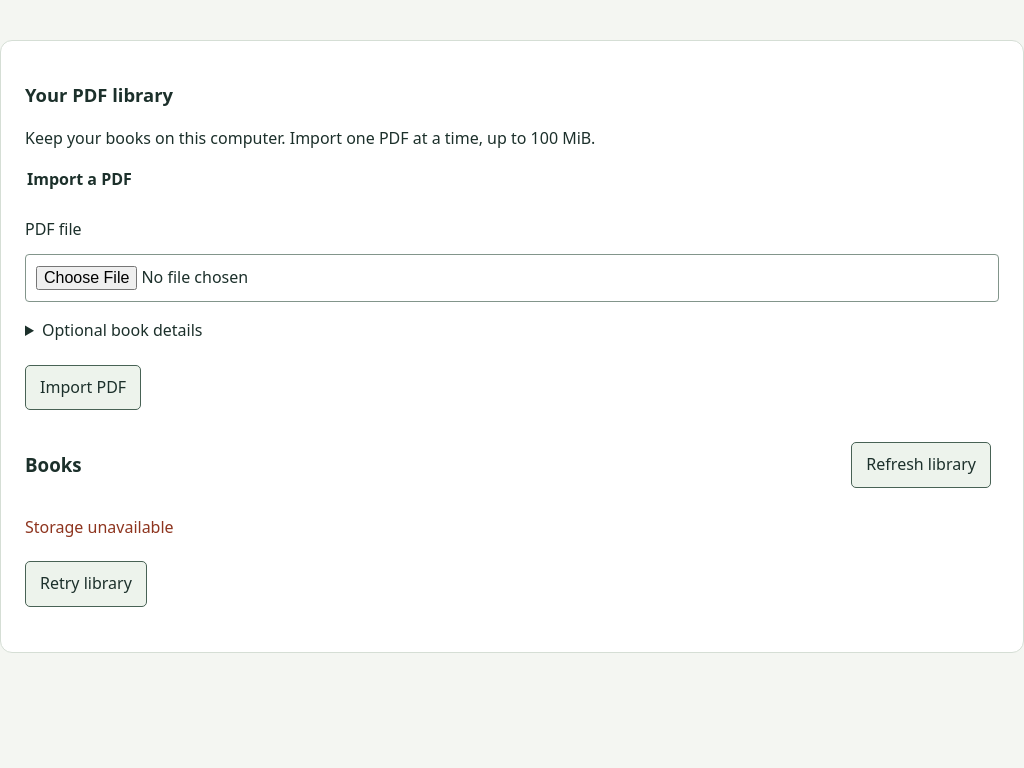
Test case: library UI › retries a failed list
The width and height of the screenshot is (1024, 768).
Click the button "Retry library" at (86, 584), box [25,561,147,607]
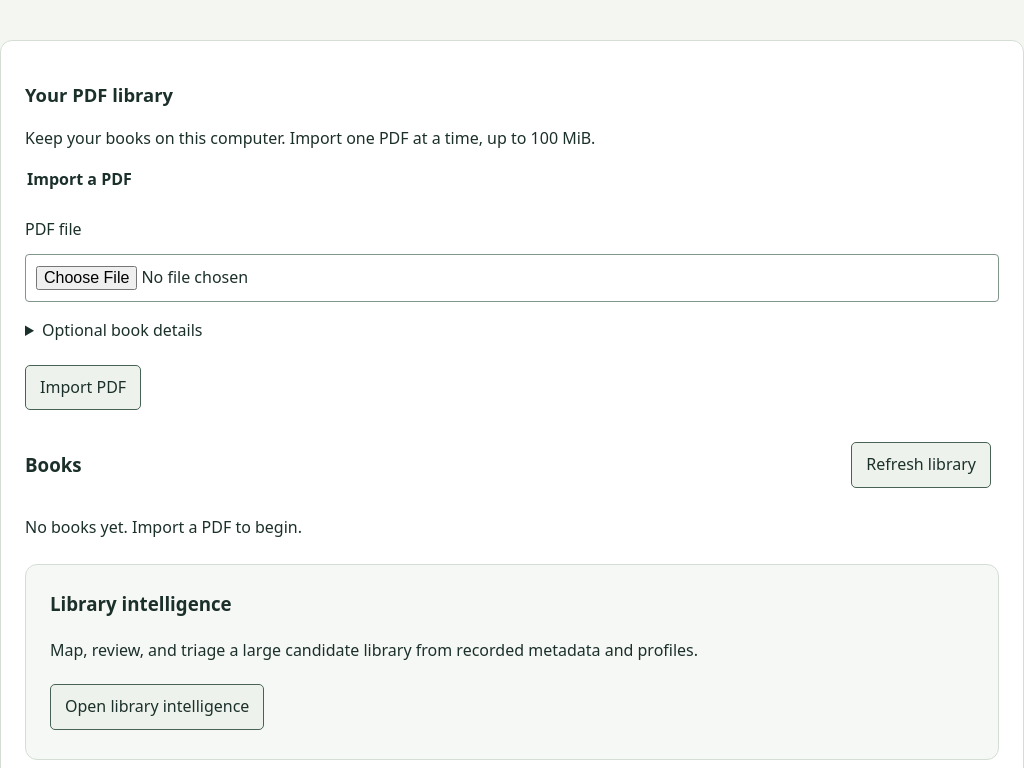
Now the text "No books yet. Import a PDF to begin." is shown, box [25,516,302,538]
